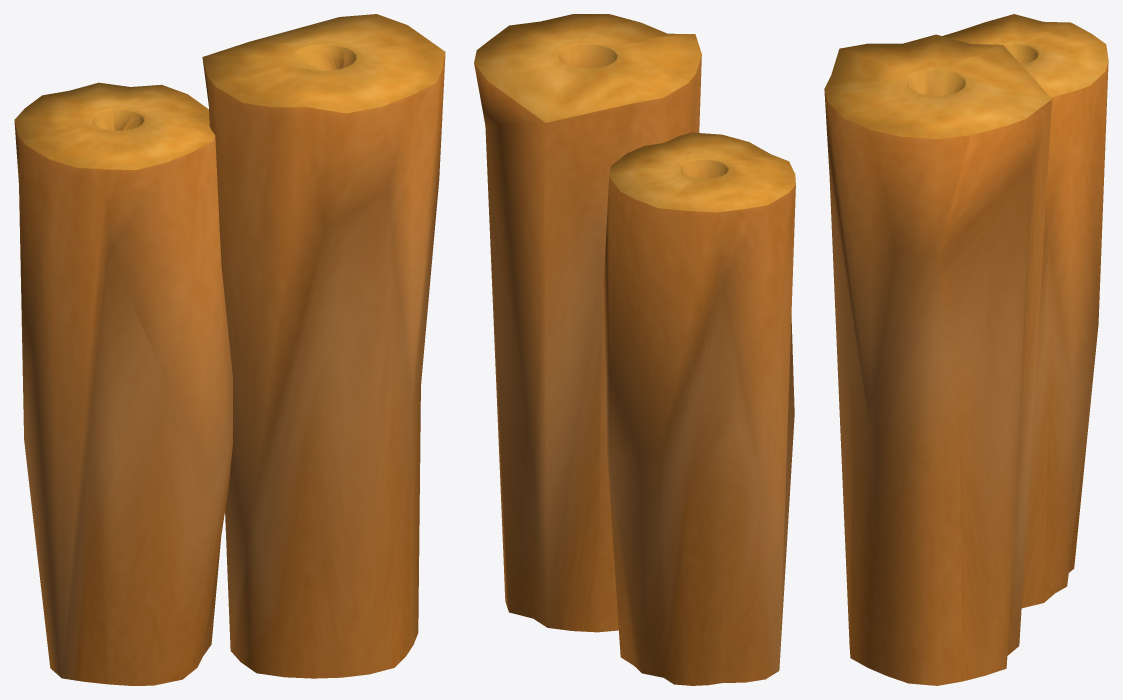
Rendered from seaGrassCylinderOrangev3.fbx.
3 views of the same model, side by side, from view 1: azimuth 30°, elevation 25°; view 2: azimuth 150°, elevation 25°; view 3: azimuth 270°, elevation 25° (orthographic). The views are drawn at different scales.
Visible parts, largest first — view 1: seaGrassCylinderOrangev3; view 2: seaGrassCylinderOrangev3; view 3: seaGrassCylinderOrangev3.
Part boxes in pixels (<box>): seaGrassCylinderOrangev3: <box>14,14,445,685</box>; seaGrassCylinderOrangev3: <box>474,14,795,685</box>; seaGrassCylinderOrangev3: <box>824,14,1108,685</box>.
Bounding box in the file's own units: 0.077 × 0.1194 × 0.0543.
Materials: 1 (1 with a texture image).
